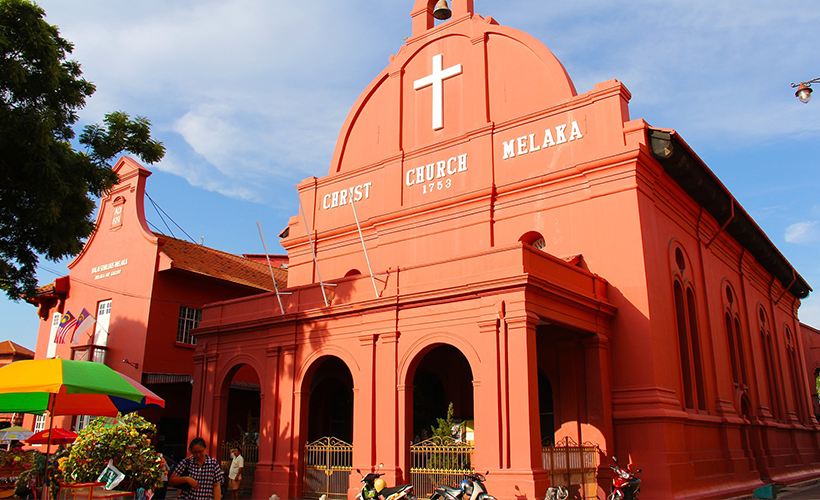Church: (84, 9, 722, 469)
